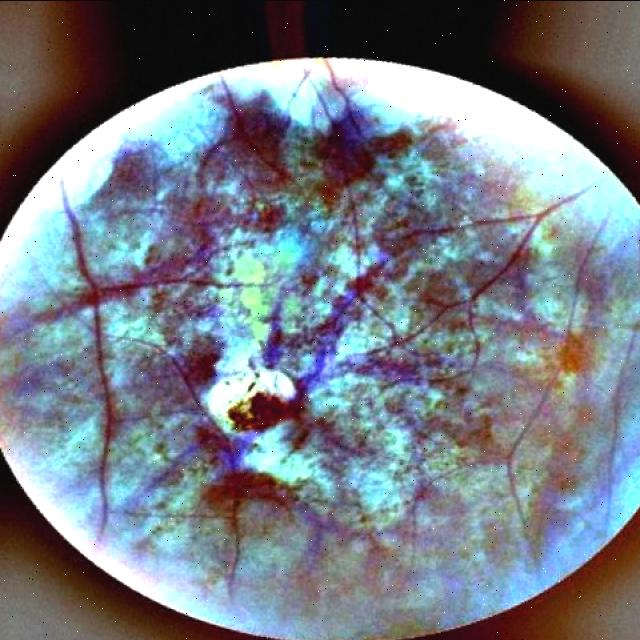Macula: (207, 364, 303, 432)
Nerves: (67, 205, 275, 535), (367, 183, 595, 376), (123, 336, 205, 411)
